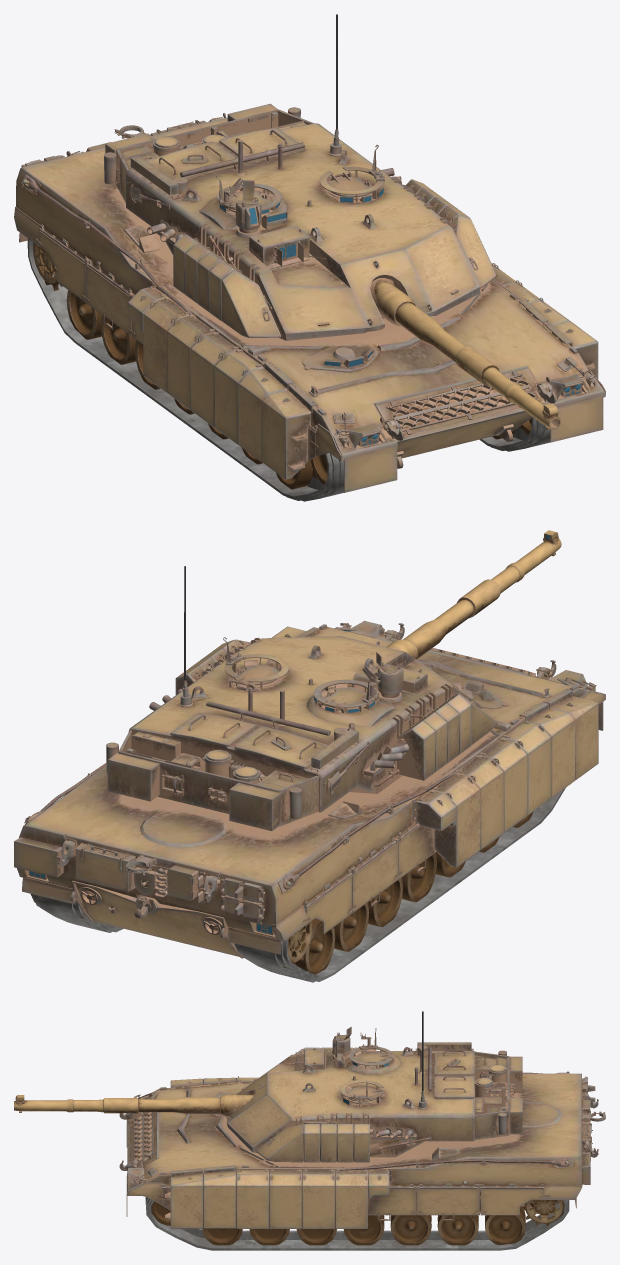
The model's file is simple_tank.glb.
3 renders of one model, top to bottom at view 1: azimuth 30°, elevation 25°; view 2: azimuth 150°, elevation 25°; view 3: azimuth 270°, elevation 25°, orthographic. The views are drawn at different scales.
Parts seen in each view (by area): view 1: C1_6, C1_9, C1_1, C1_8, C1, C1_4, C1_7, C1_3, C1_5; view 2: C1_6, C1_9, C1_1, C1_8, C1_7, C1_4, C1, C1_3; view 3: C1_6, C1_9, C1_1, C1_7, C1_4, C1_8, C1, C1_3.
Boxes of the visible parts, x1,y1,x2,y2 form: C1_6: [14, 113, 605, 492]; C1_9: [104, 103, 479, 340]; C1_1: [128, 177, 598, 479]; C1_8: [27, 238, 550, 501]; C1: [370, 278, 561, 429]; C1_4: [35, 224, 605, 461]; C1_7: [33, 242, 531, 489]; C1_3: [35, 120, 306, 317]; C1_5: [219, 188, 580, 445]; C1_6: [14, 620, 603, 958]; C1_9: [106, 636, 480, 830]; C1_1: [175, 626, 598, 867]; C1_8: [30, 788, 565, 982]; C1_7: [40, 812, 533, 974]; C1_4: [302, 690, 605, 934]; C1: [386, 530, 561, 659]; C1_3: [40, 731, 459, 876]; C1_6: [119, 1071, 605, 1216]; C1_9: [227, 1026, 522, 1157]; C1_1: [165, 1047, 391, 1228]; C1_7: [151, 1192, 568, 1245]; C1_4: [127, 1094, 549, 1220]; C1_8: [145, 1188, 569, 1250]; C1: [14, 1094, 254, 1116]; C1_3: [330, 1064, 552, 1171].
Bounding box in the file's own units: 429 × 424 × 1015.
Materials: 10 (9 with a texture image).
